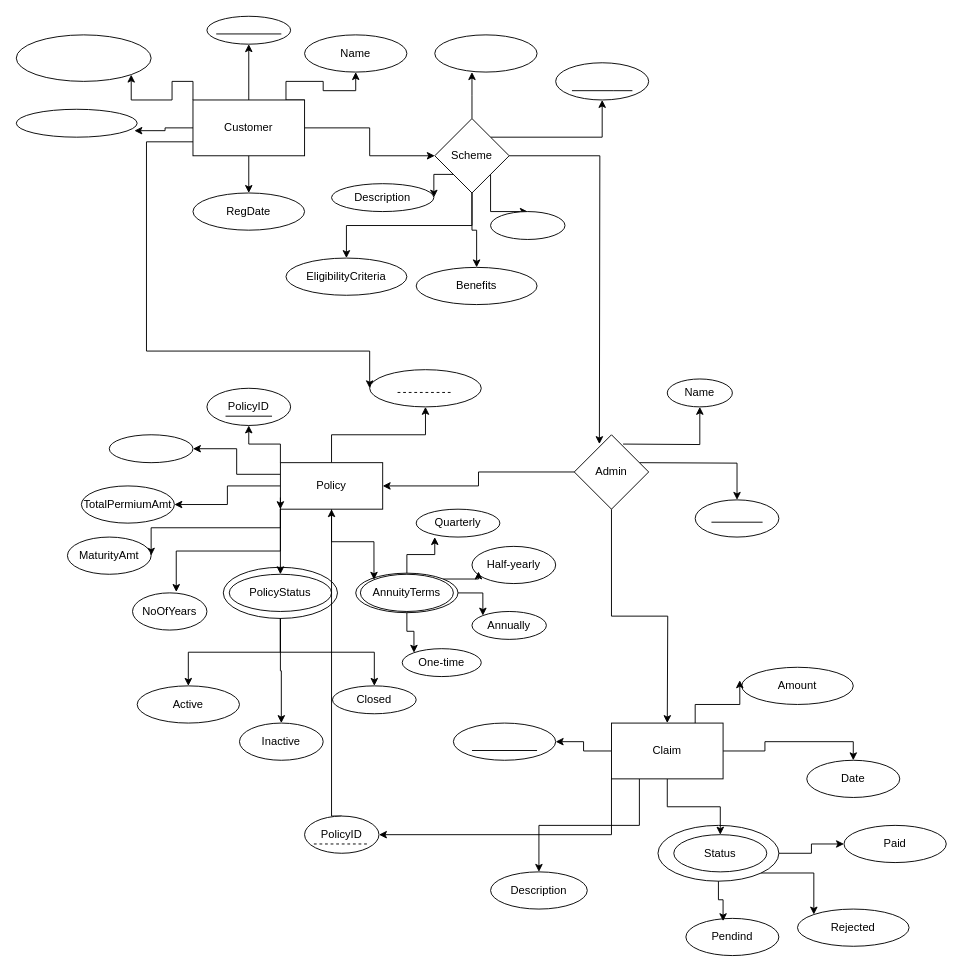
The diagram is 963 pixels wide and 972 high, and some of its shapes have lost their labels. Each missing label, with the centre of its shape:
Address: pixel 76 122
AdminID: pixel 736 518
ClaimID: pixel 504 741
Contact: pixel 83 57
Customer ID: pixel 248 29
CustomerID: pixel 425 388
SchemeID: pixel 602 81
SchemeName: pixel 485 53
StartDate: pixel 150 448
T&C: pixel 527 225
